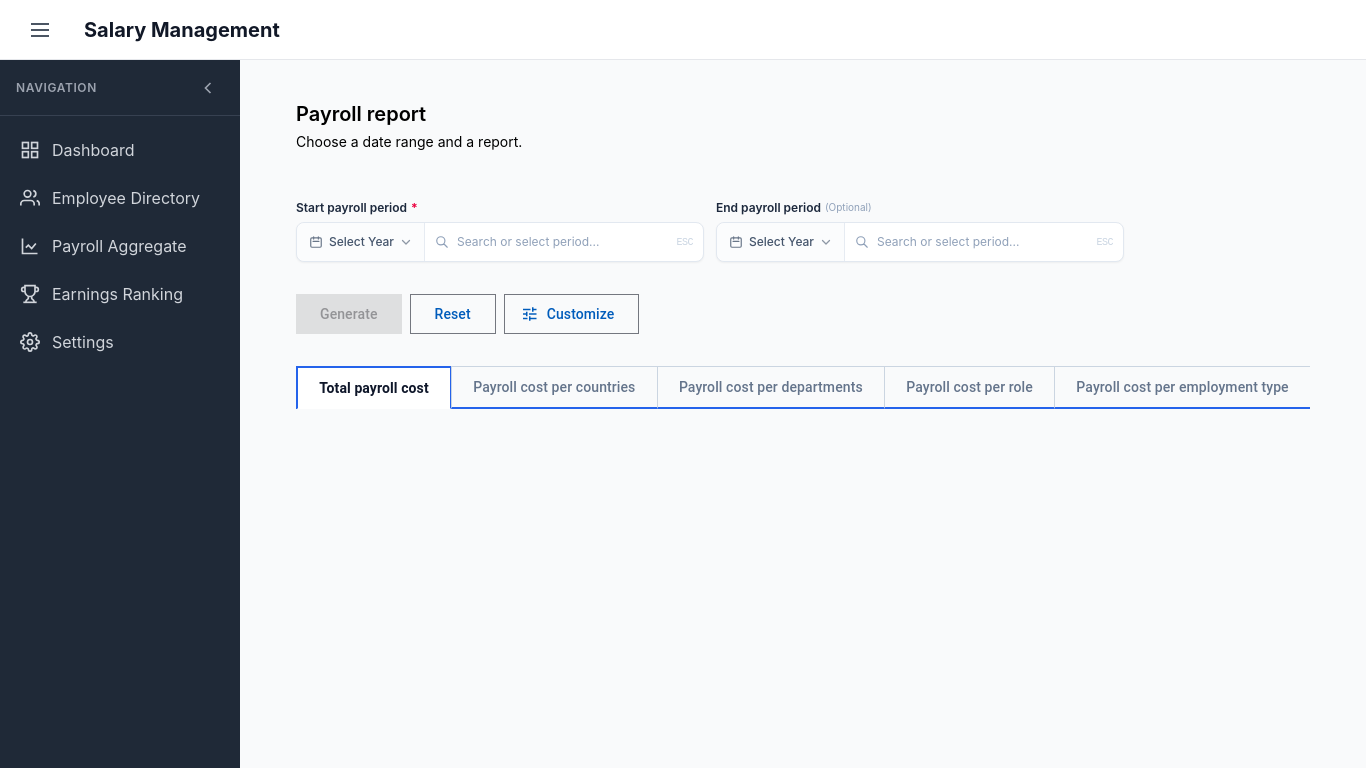
Test: Aggregate Report Page › should show a blocker for MISSING_REFERENCE_CURRENCY (HTTP 400)
The width and height of the screenshot is (1366, 768).
Step 1. Click the button "Select Year" below "Start payroll period" → (361,242), box [297,223,425,261]
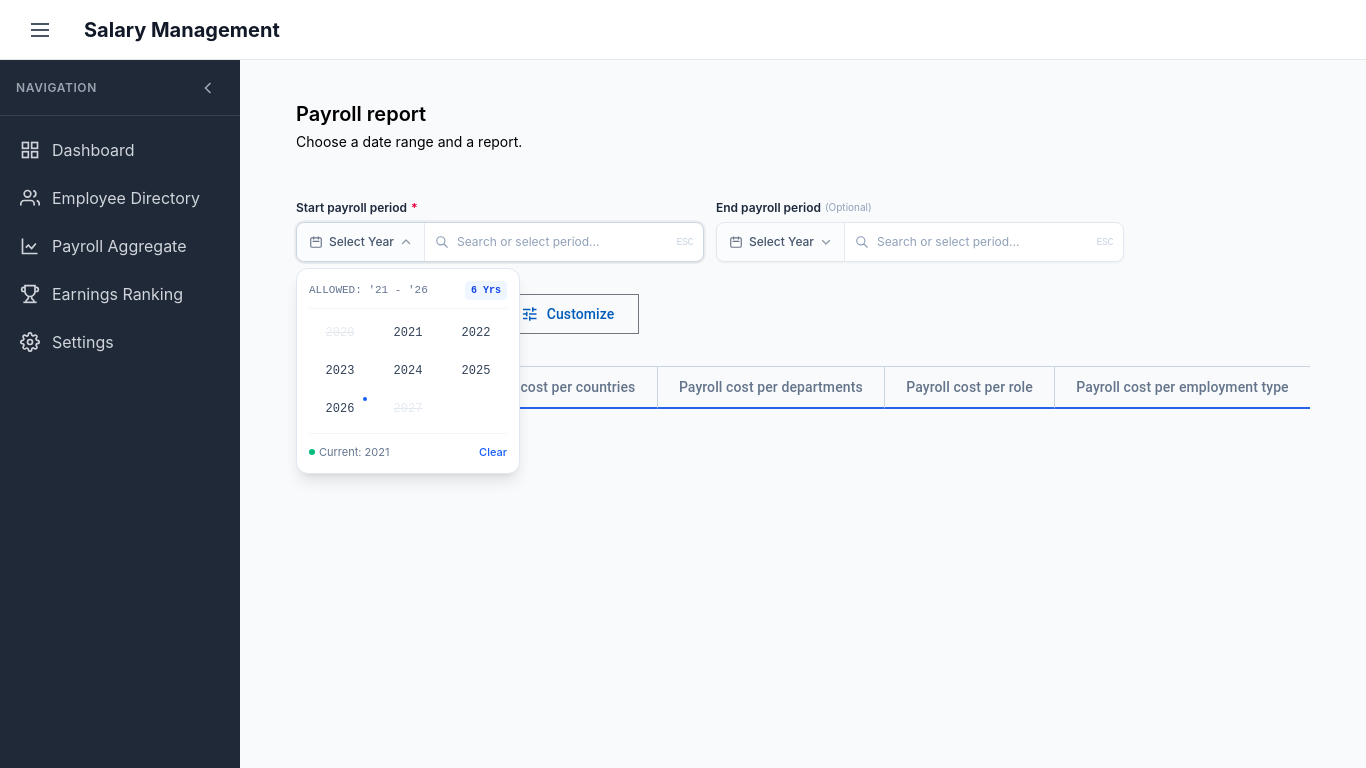
Now the button with test id "period-picker-year-2026" is shown
Step 2. Click the button with test id "period-picker-year-2026" → (340,409), box [309,393,371,425]
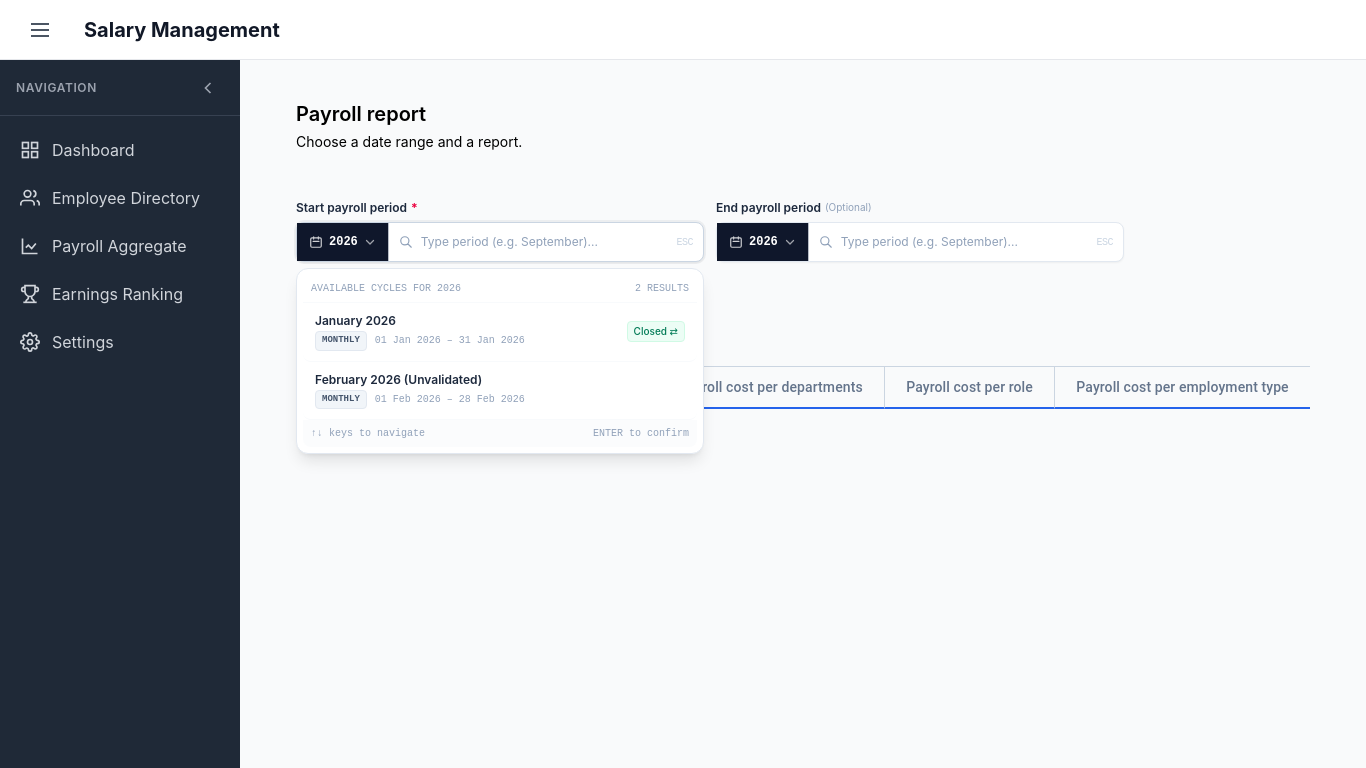
Step 3. Click the button that starts with "February 2026 (Unvalidated)" → (500,392), box [303,362,697,421]
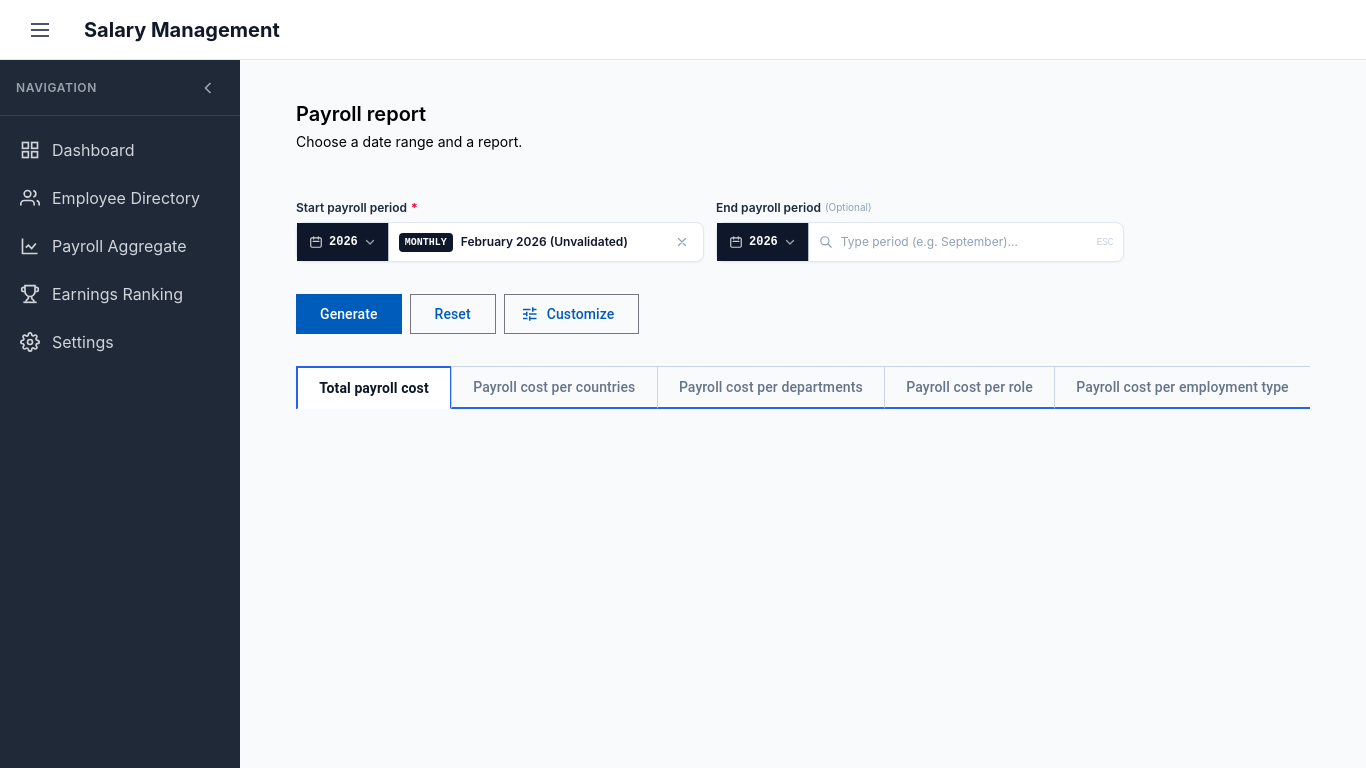
Step 4. Click the button with test id "btn-generate" → (349,314), box [296,294,402,334]
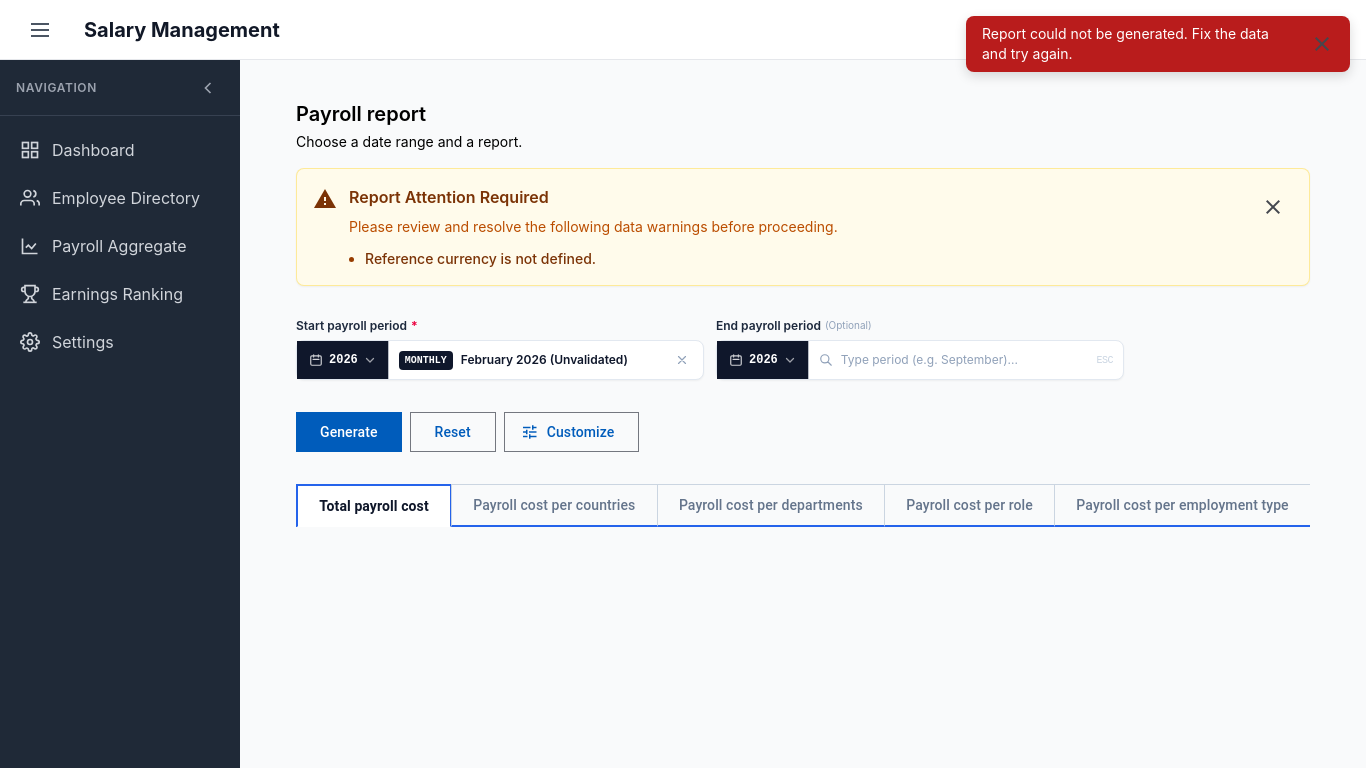
Now the message with test id "blocker-banner" is shown, box [296,168,1310,286]
Now the text with test id "blocker-message-MISSING_REFERENCE_CURRENCY" shows "Reference currency is not defined", box [365,250,596,267]
